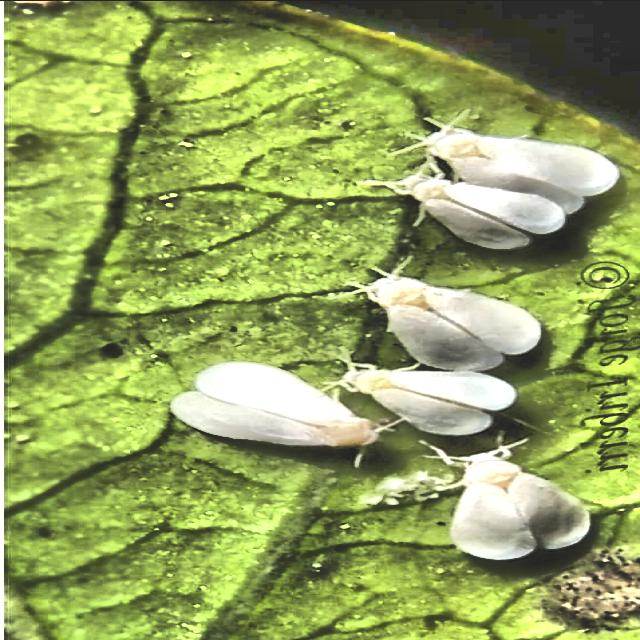whitefly: (171, 360, 387, 445), (364, 275, 541, 370), (428, 130, 619, 213), (450, 451, 590, 559), (370, 177, 566, 249), (345, 368, 515, 434)
